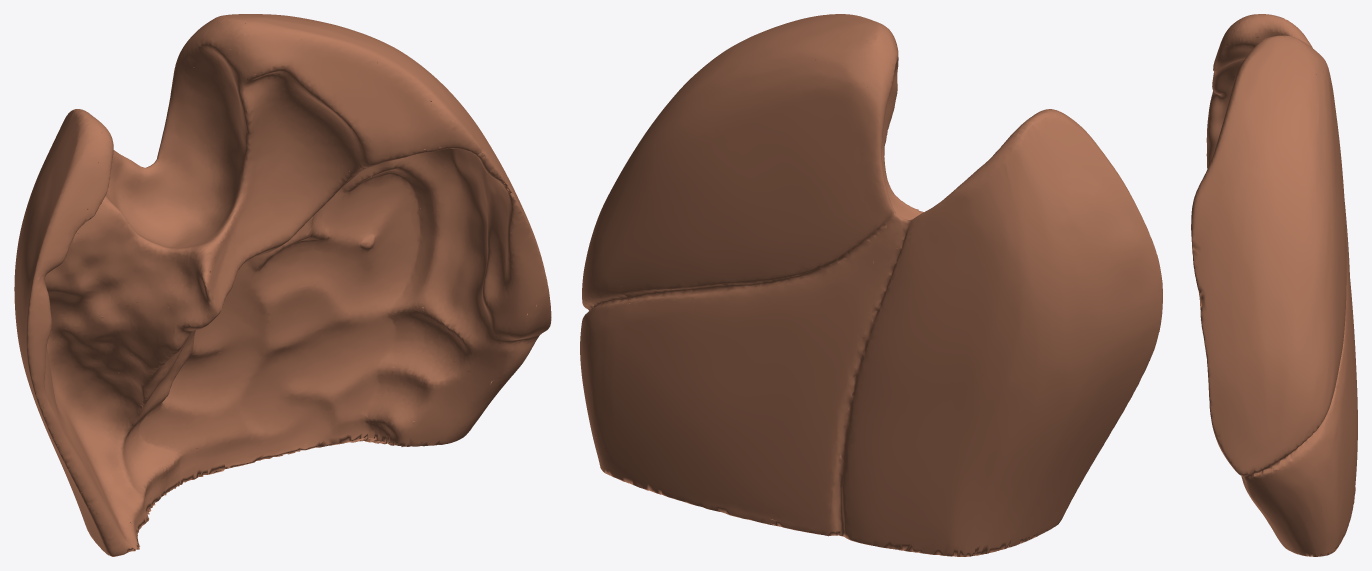
The model's file is frog_liver.glb.
3 renders of one model, left to right at view 1: azimuth 30°, elevation 25°; view 2: azimuth 150°, elevation 25°; view 3: azimuth 270°, elevation 25°, orthographic. The views are drawn at different scales.
Parts seen in each view (by area): view 1: frog_liver; view 2: frog_liver; view 3: frog_liver.
Part boxes in pixels (x1=…): frog_liver: x1=14, y1=14, x2=551, y2=556; frog_liver: x1=580, y1=14, x2=1162, y2=556; frog_liver: x1=1191, y1=14, x2=1357, y2=556.
Size of the model in its own units: 1.6 by 1.36 by 0.4953.
